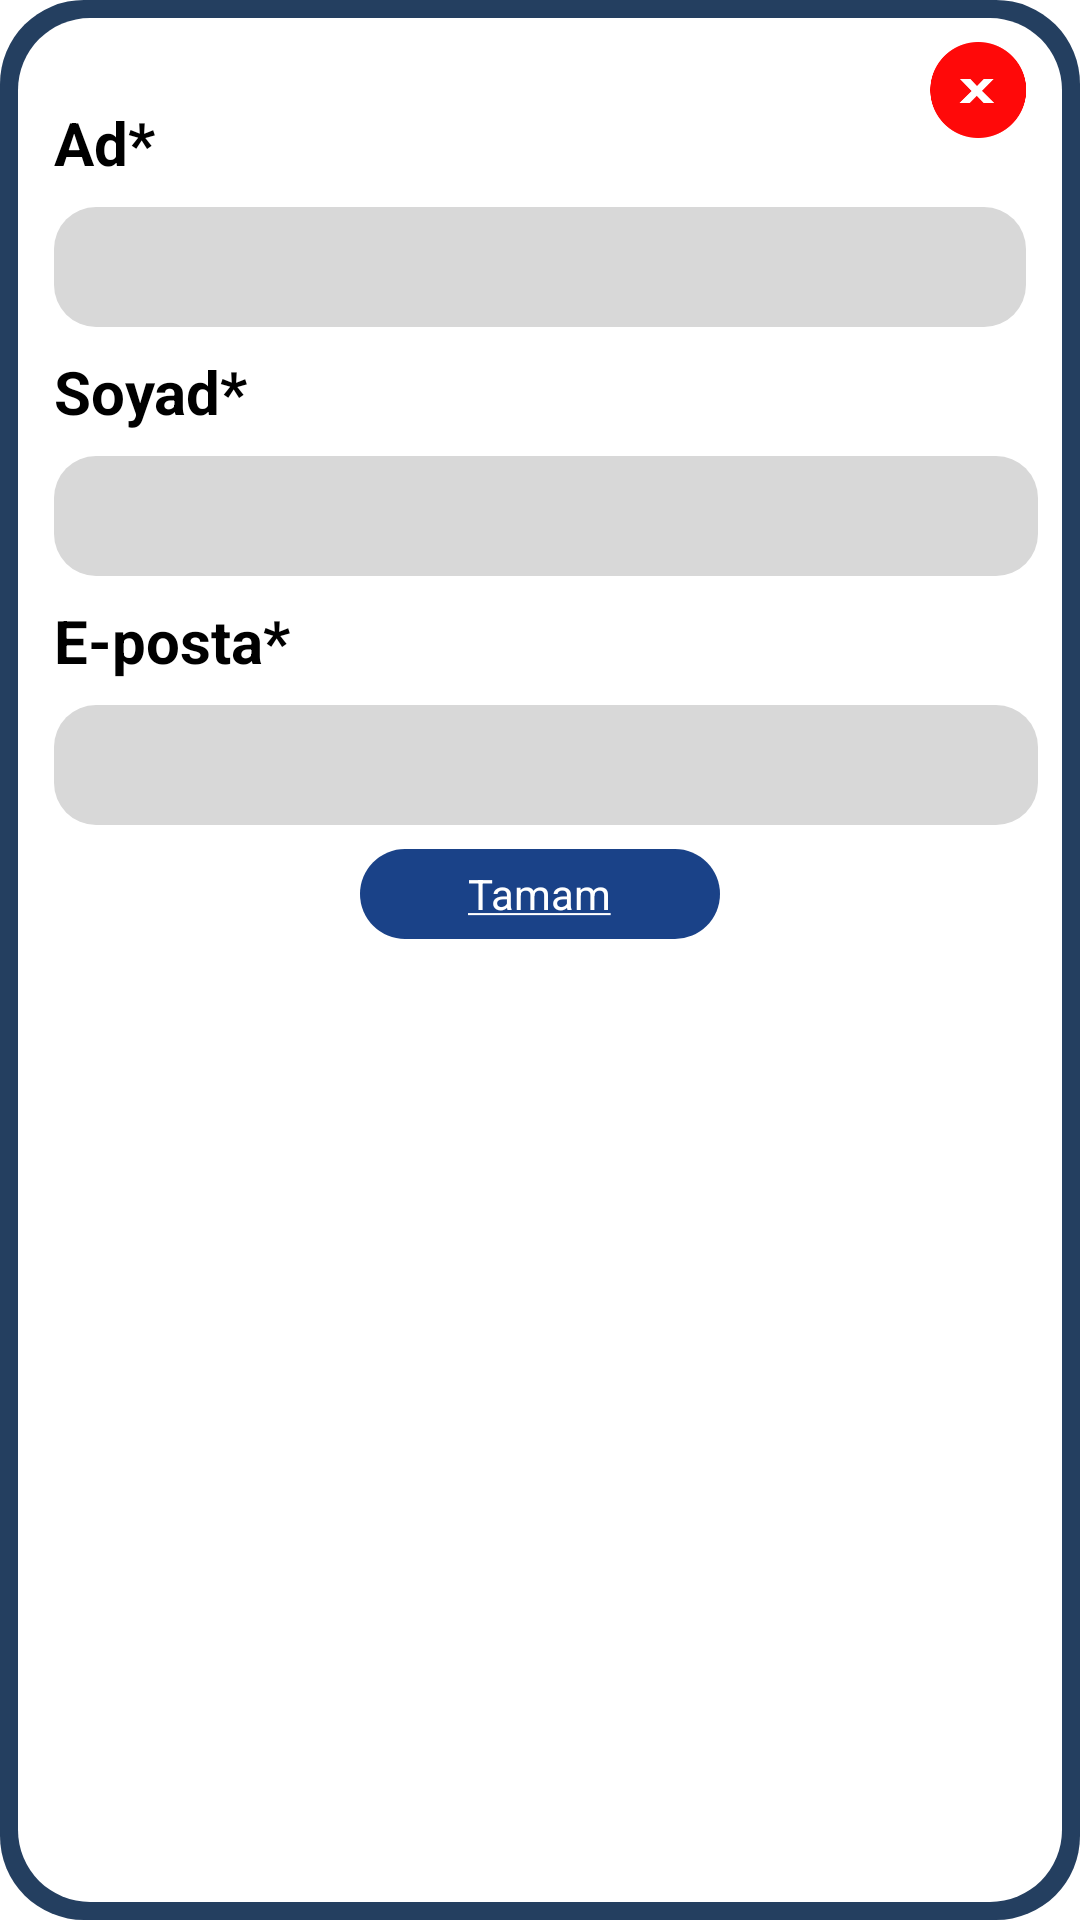

Icon click points for this 1080x1920 phone screenshot, format (x=x, y=y):
close: (x=978, y=90)
